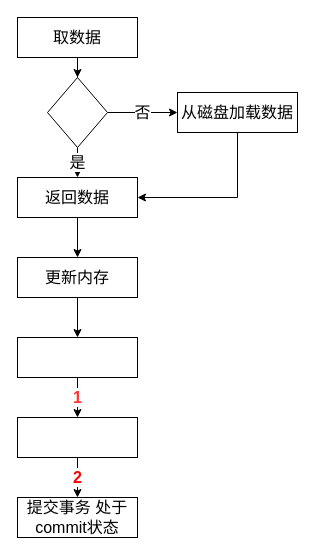
Image size: 315x555. Some labels were removed from this diagram. Here are the shapes that lost their labels. From the top down, the centre of each, then its label:
the point at 77,112: 是否在内存中
the point at 77,357: 写redo log 处于prepare状态
the point at 77,437: 写binlog
